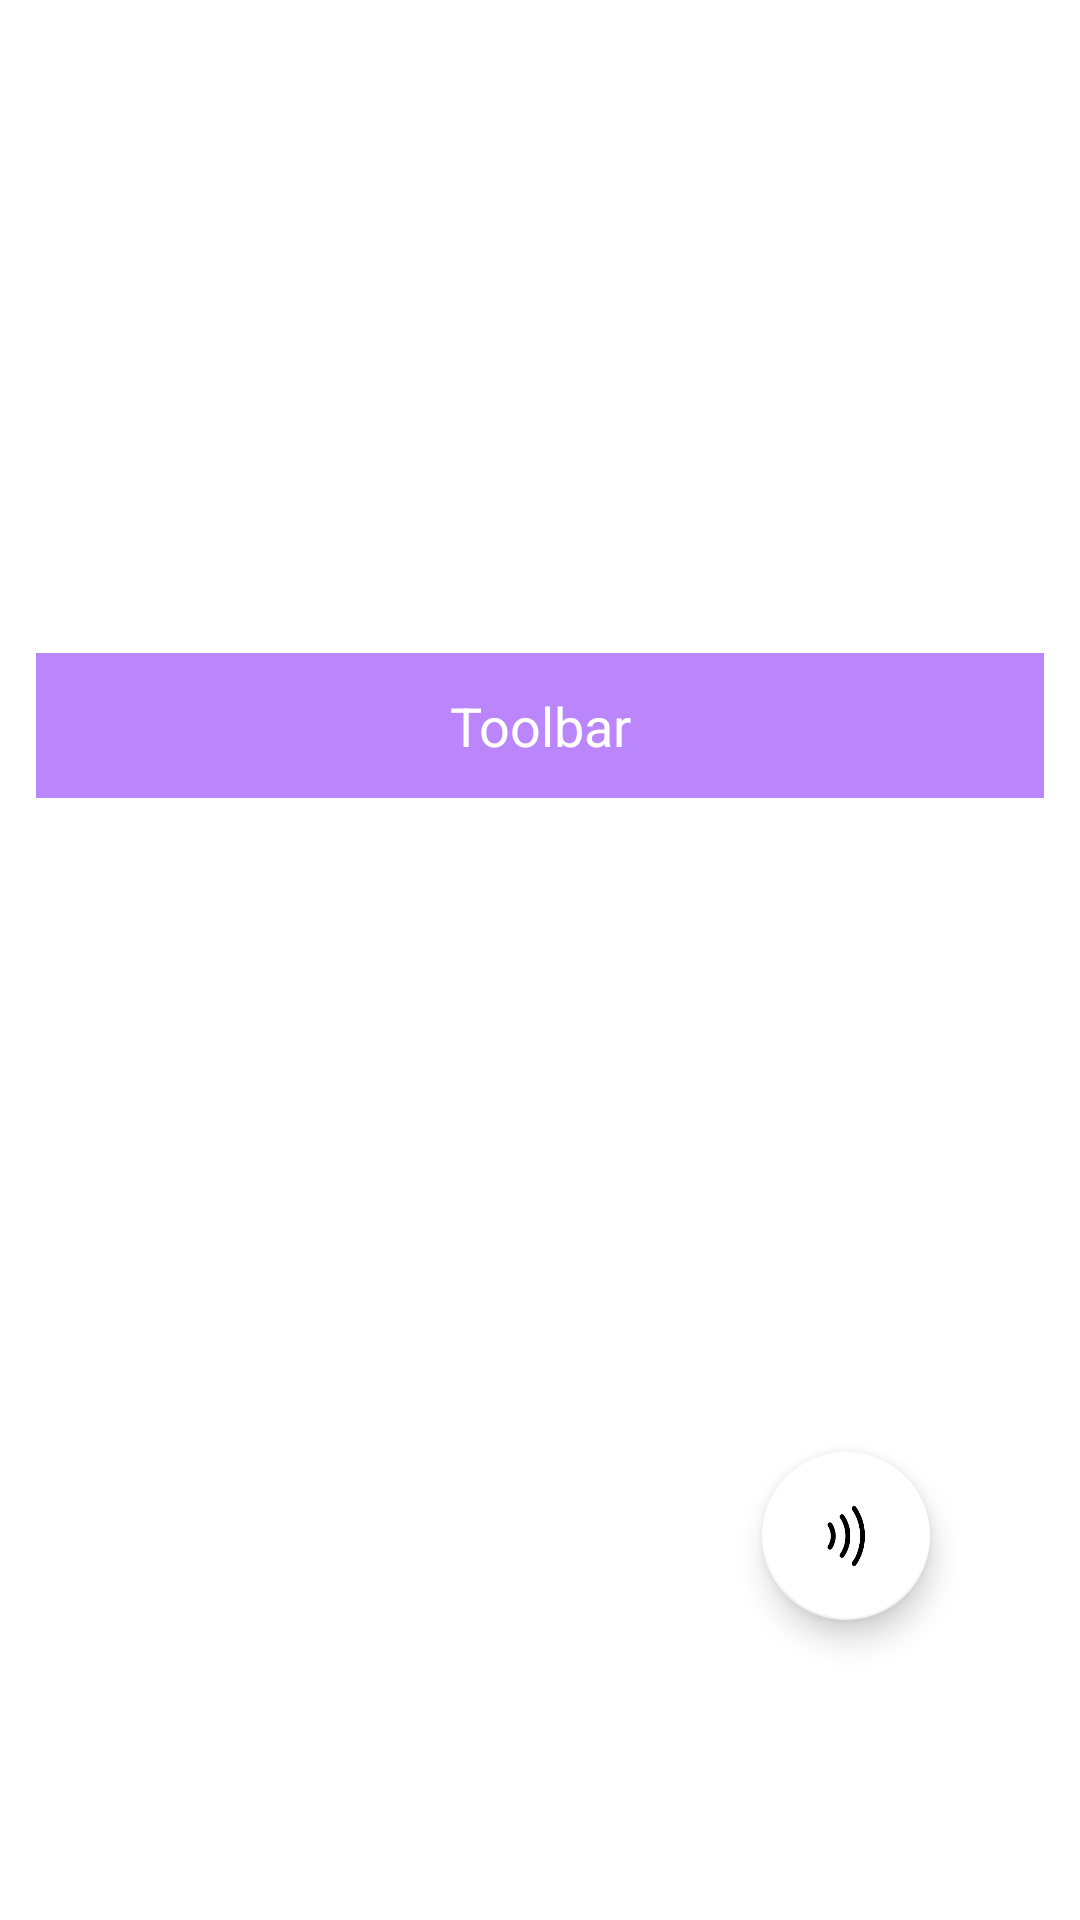

Where icons sit on this 1080w x 1920h app screen, as [x1=x1, y1=y1, x2=x2, y2=y2]:
voice start: [x1=766, y1=1506, x2=930, y2=1620]
